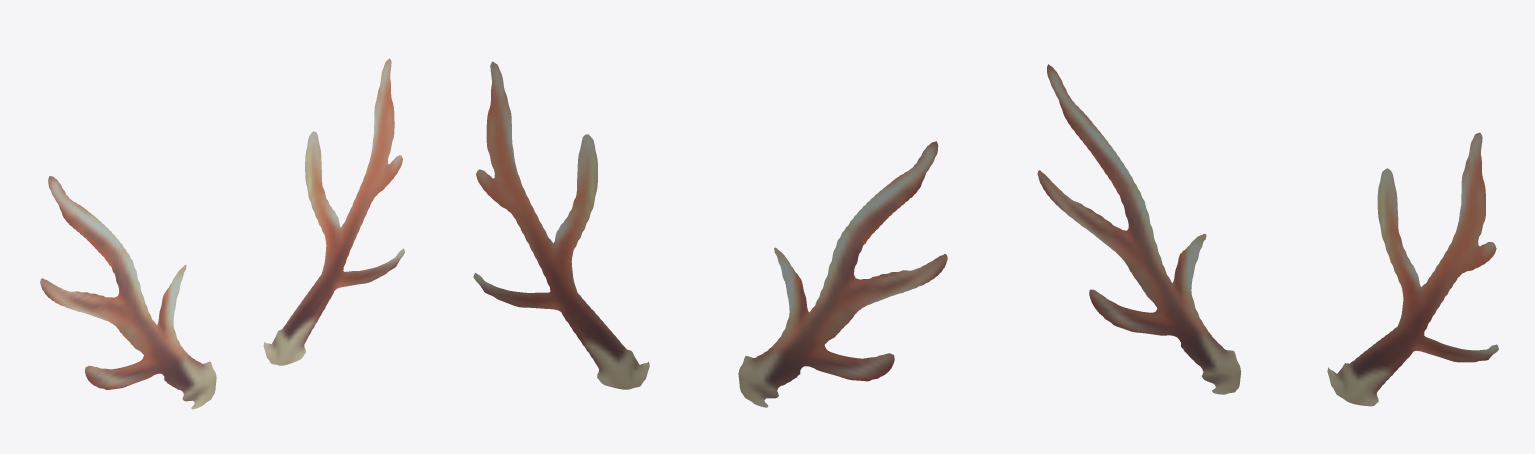
Rendered from Cat Prop Horns Deer.FBX.
3 views of the same model, side by side, from view 1: azimuth 30°, elevation 25°; view 2: azimuth 150°, elevation 25°; view 3: azimuth 330°, elevation 25° (orthographic). The views are drawn at different scales.
Parts seen in each view (by area): view 1: Cat Prop Horns Deer; view 2: Cat Prop Horns Deer; view 3: Cat Prop Horns Deer.
Part boxes in pixels (x1,y1,x2,y2): Cat Prop Horns Deer: [40, 58, 404, 409]; Cat Prop Horns Deer: [473, 61, 947, 407]; Cat Prop Horns Deer: [1037, 64, 1498, 406].
Size of the model in its own units: 93.25 by 12.52 by 68.61.
